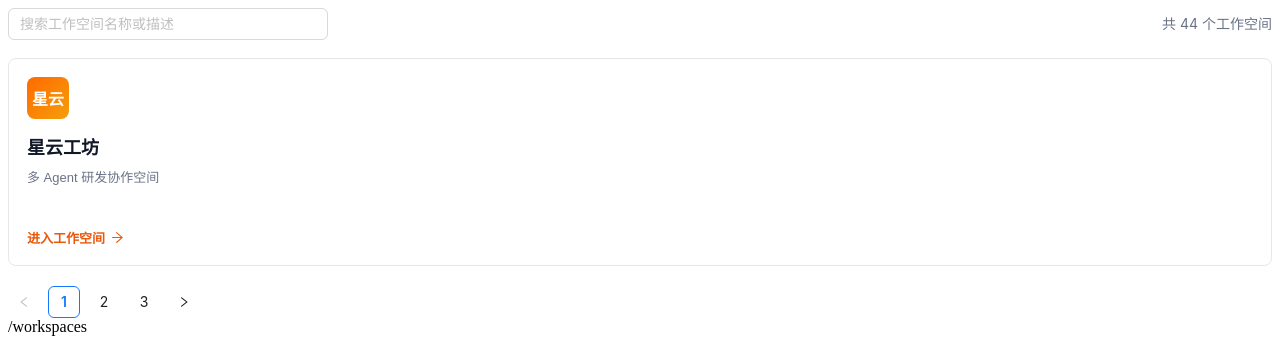
Test case: AllWorkspacesTab › shows pagination and requests page 2 when clicked
Expected: the button with test id "all-workspace-card-1" is shown, [8,58,1272,266]
Click the list item titled "2" at (104, 302), box [88,286,120,318]
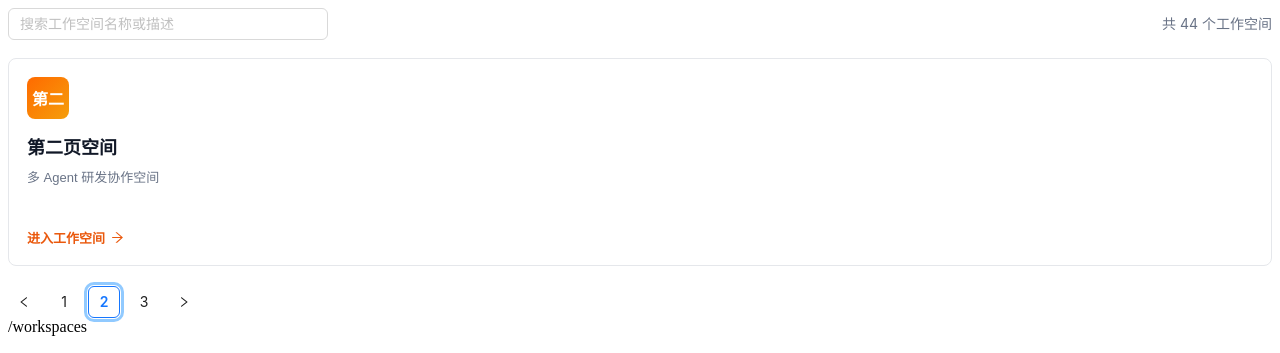
Expected: the text "第二页空间" is shown, [27,137,117,160]
